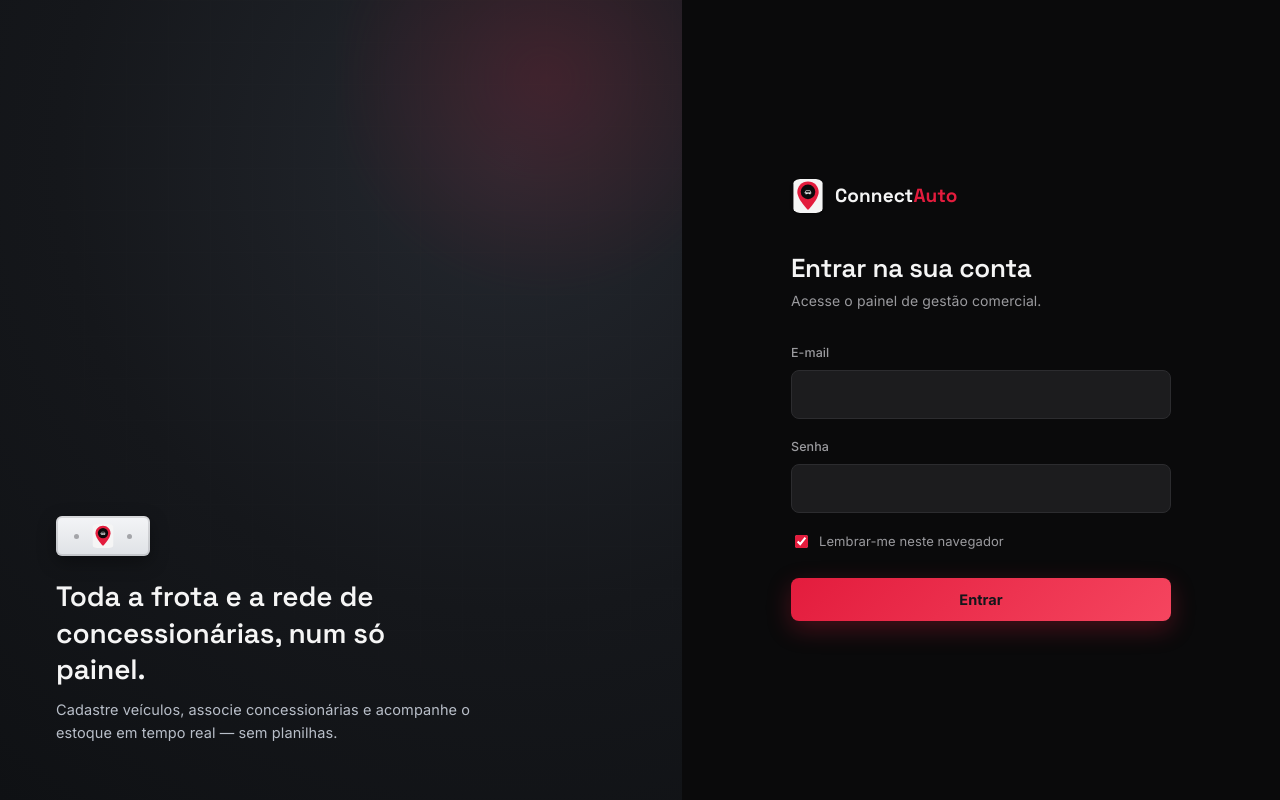
it: LoginPage › shows an error message when credentials are invalid
The width and height of the screenshot is (1280, 800).
In the field labelled "E-mail": point(981, 394) [791,370,1171,419], type "admin@connectauto.com.br"
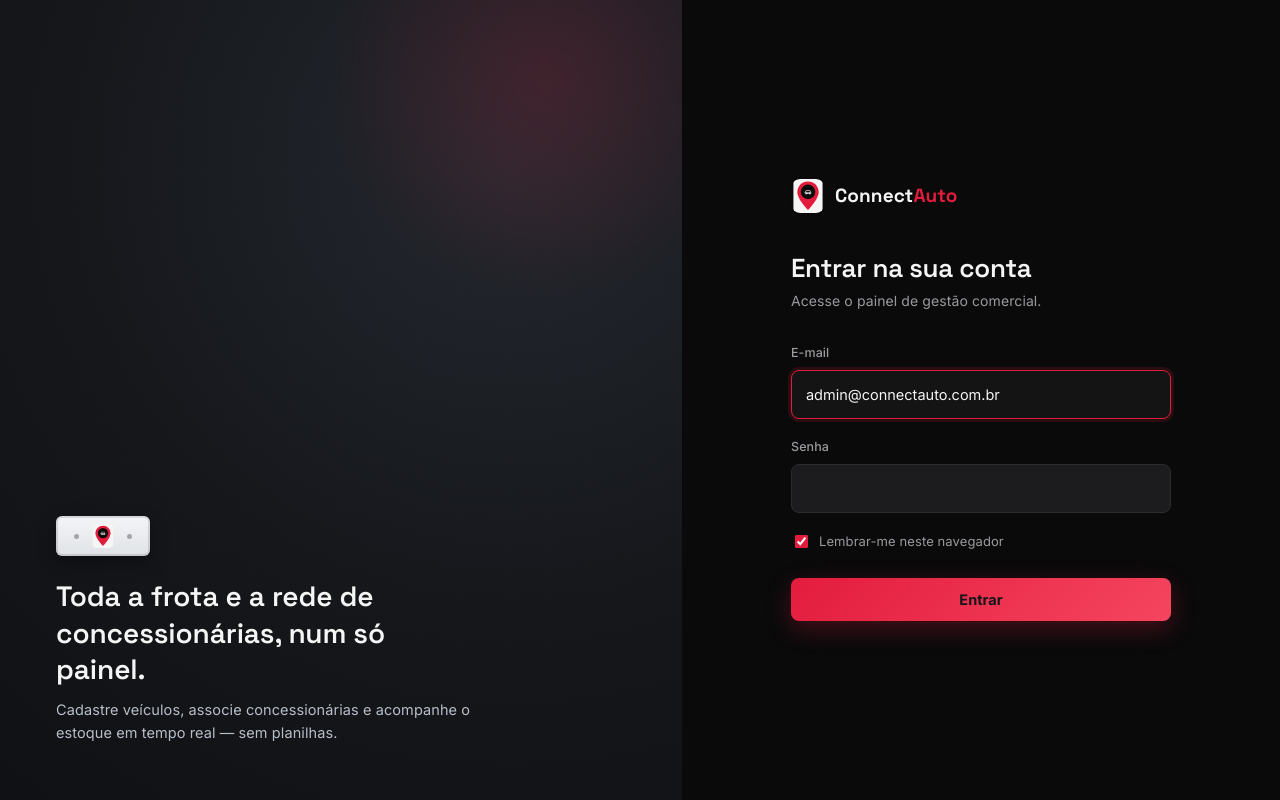
In the password field labelled "Senha": point(981, 488) [791,464,1171,513], type "senha-errada"
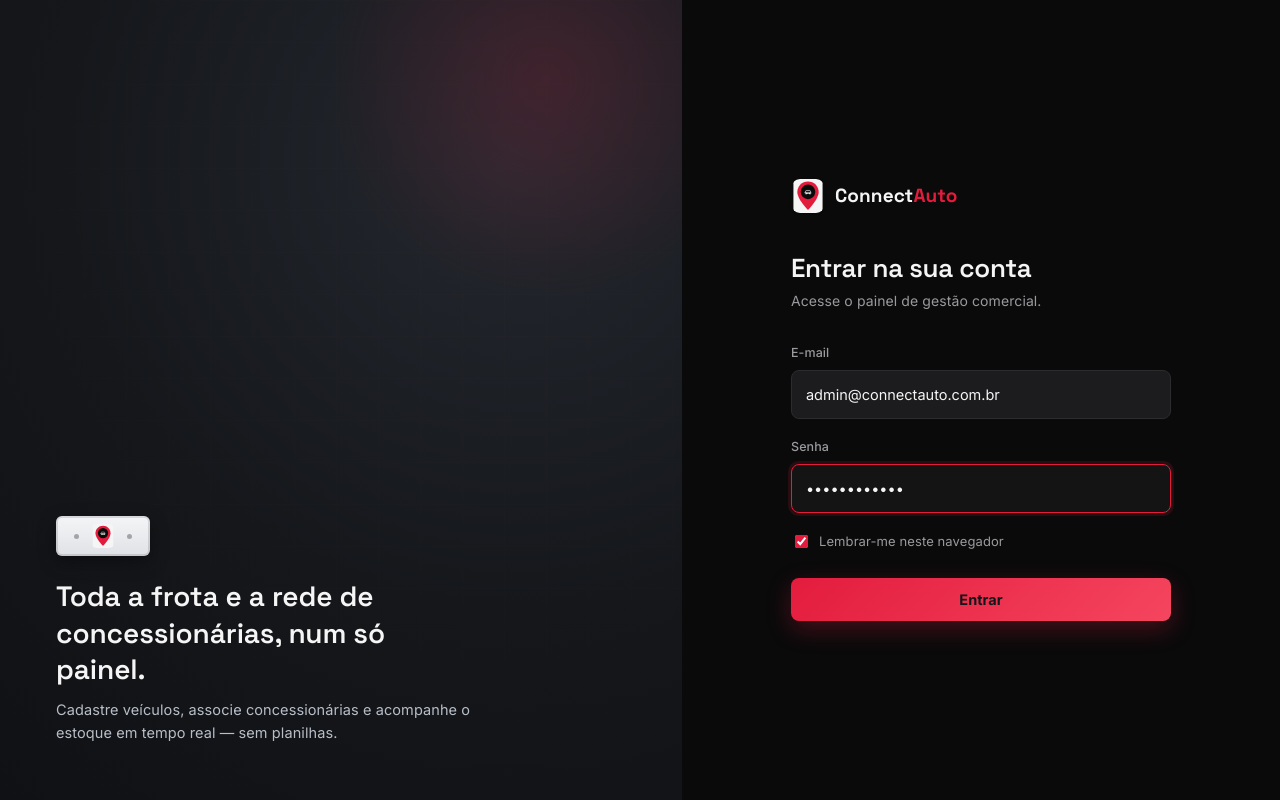
Click the button "Entrar": point(981, 599) [791,578,1171,621]
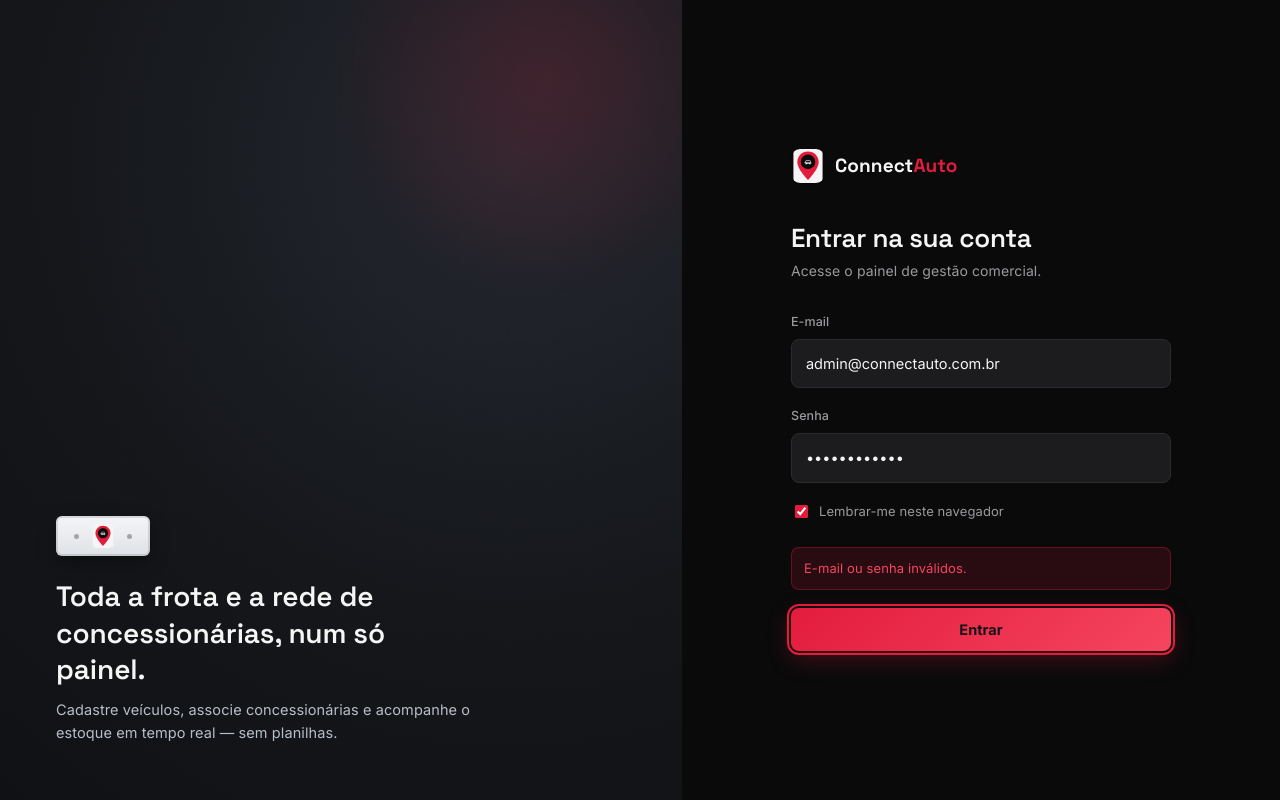
Result: the text "E-mail ou senha inválidos." is shown at [791,548,1171,590]
